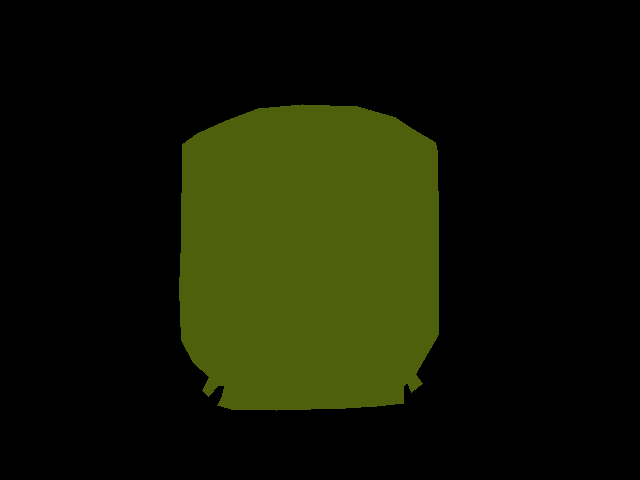Train: (179, 104, 439, 410)
